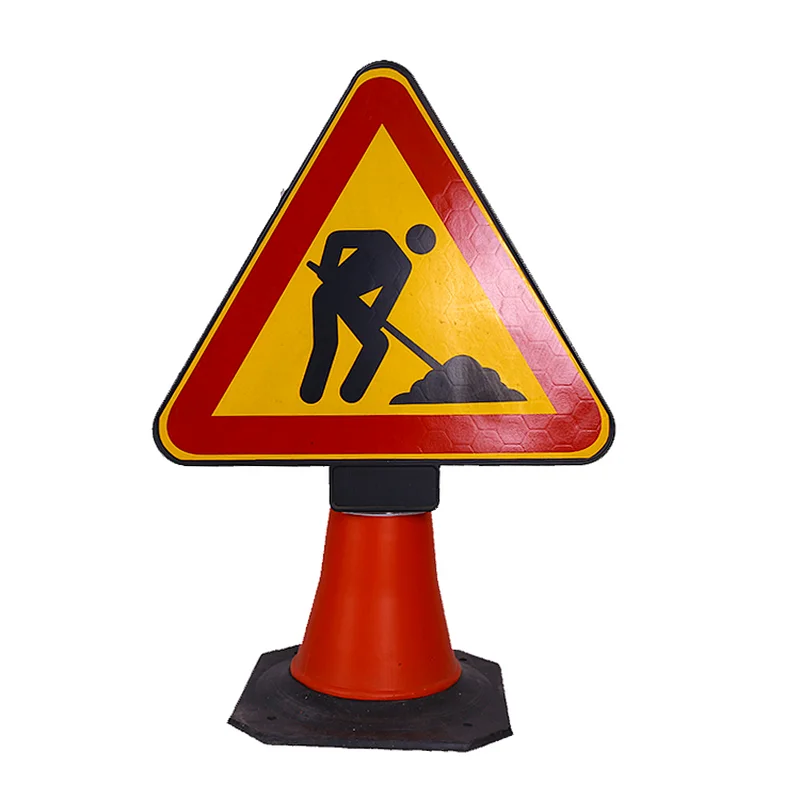caution: (156, 59, 617, 467)
